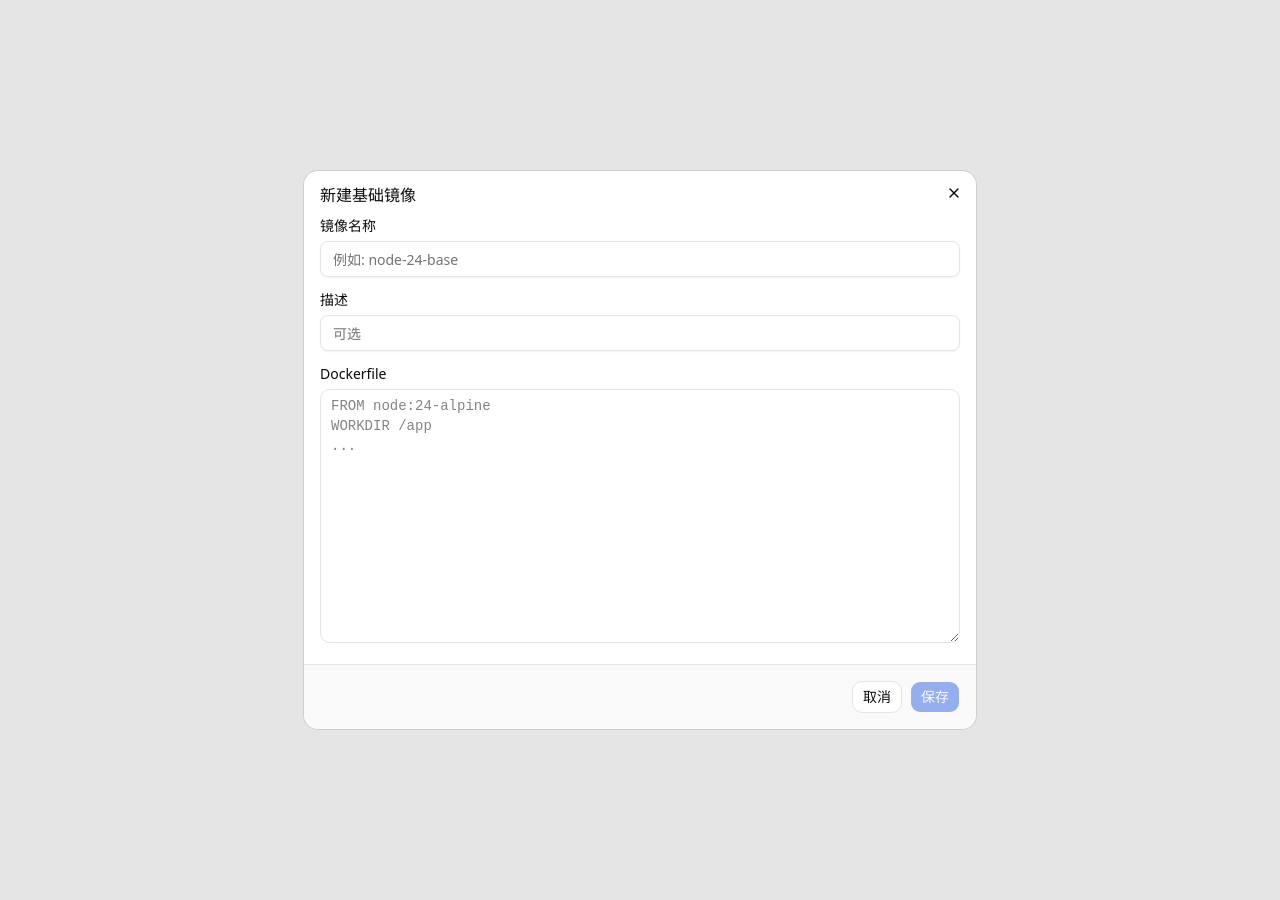
Test case: BaseImageFormDialog › T-W4: surfaces a save error
The image size is (1280, 900).
Type "node-base" into the field labelled "镜像名称".
click(640, 259); type("node-base")  # box [320,241,960,277]
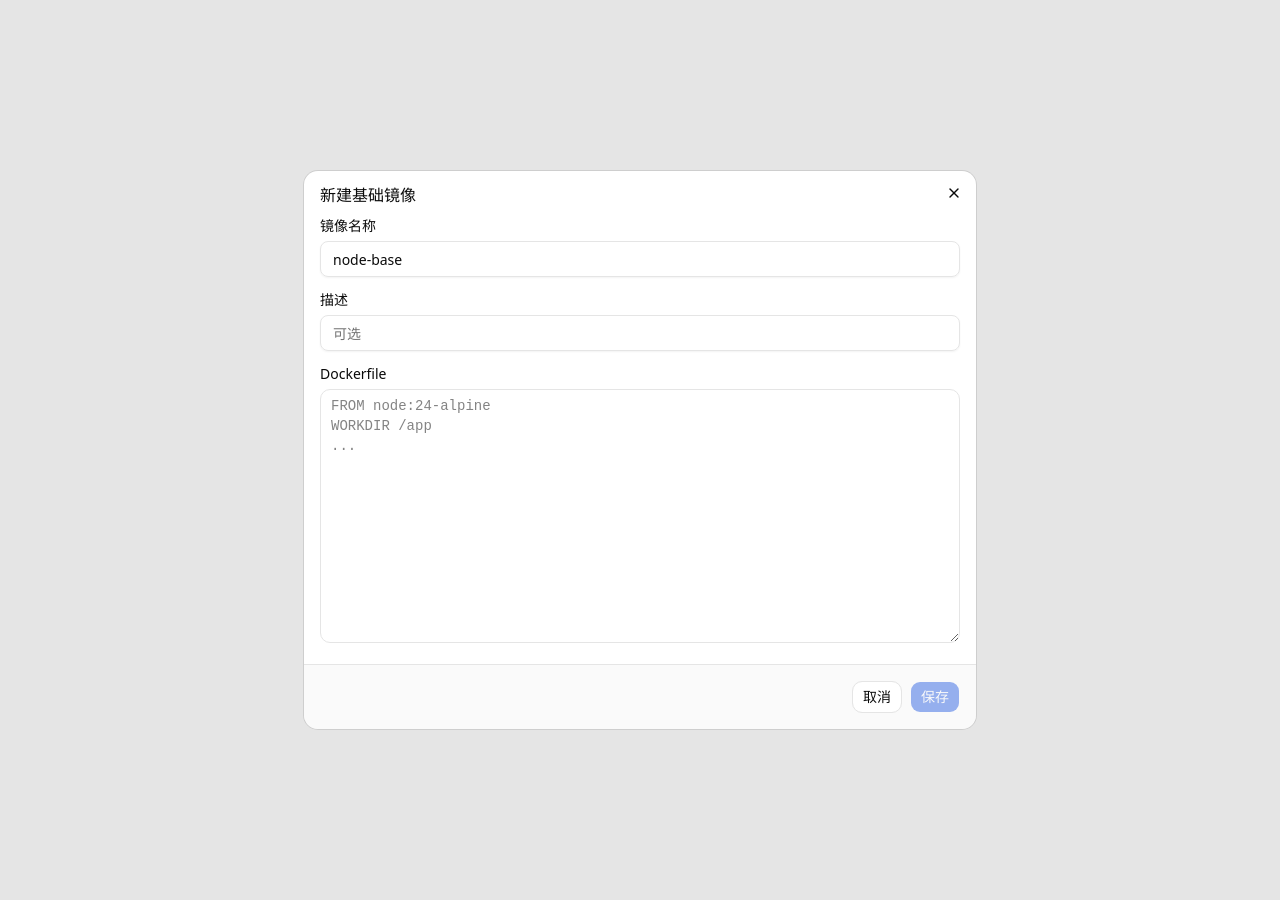
Type "FROM node" into the text box labelled "Dockerfile".
click(640, 516); type("FROM node")  # box [320,389,960,643]
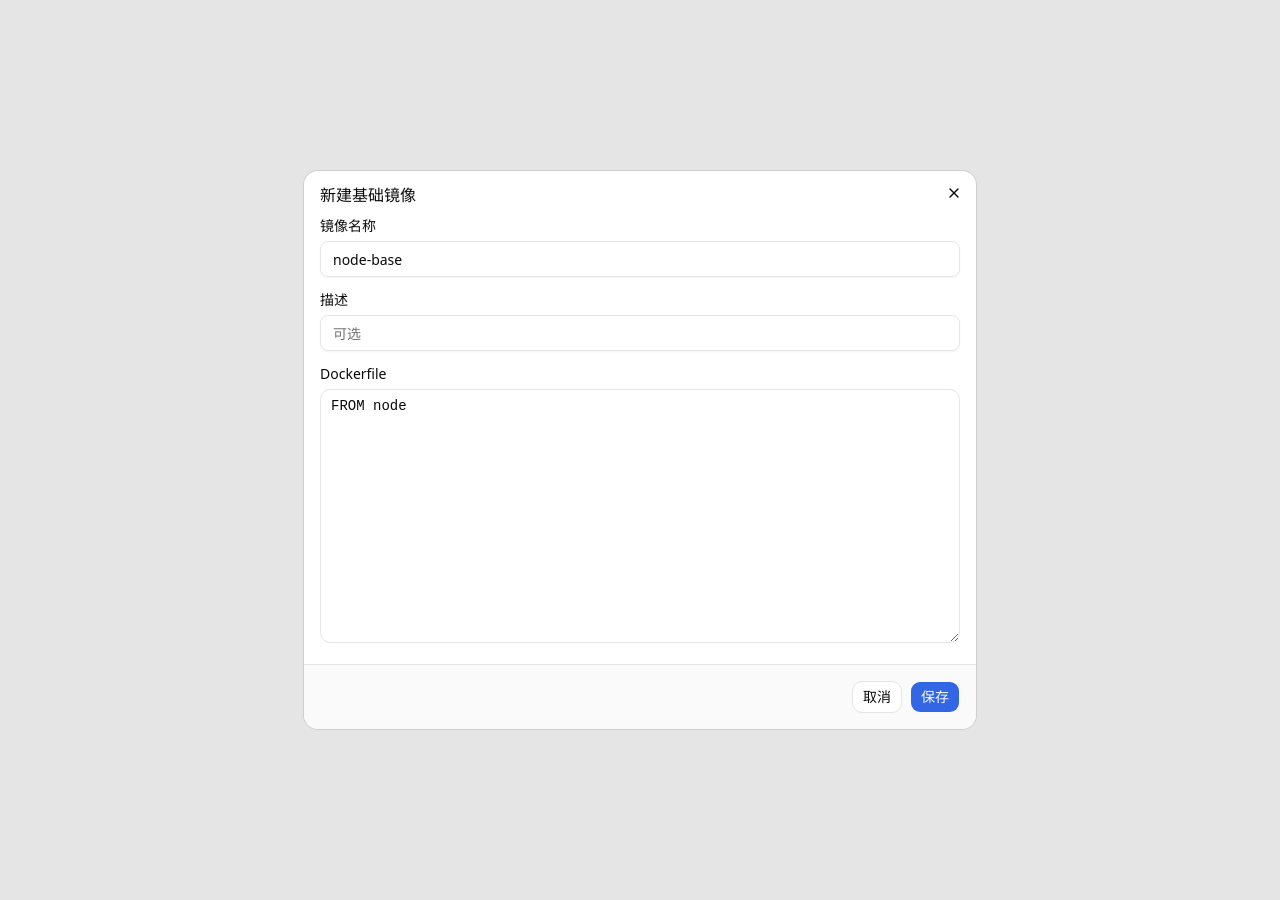
Click the button "保存".
click(935, 697)  # box [910,681,960,713]
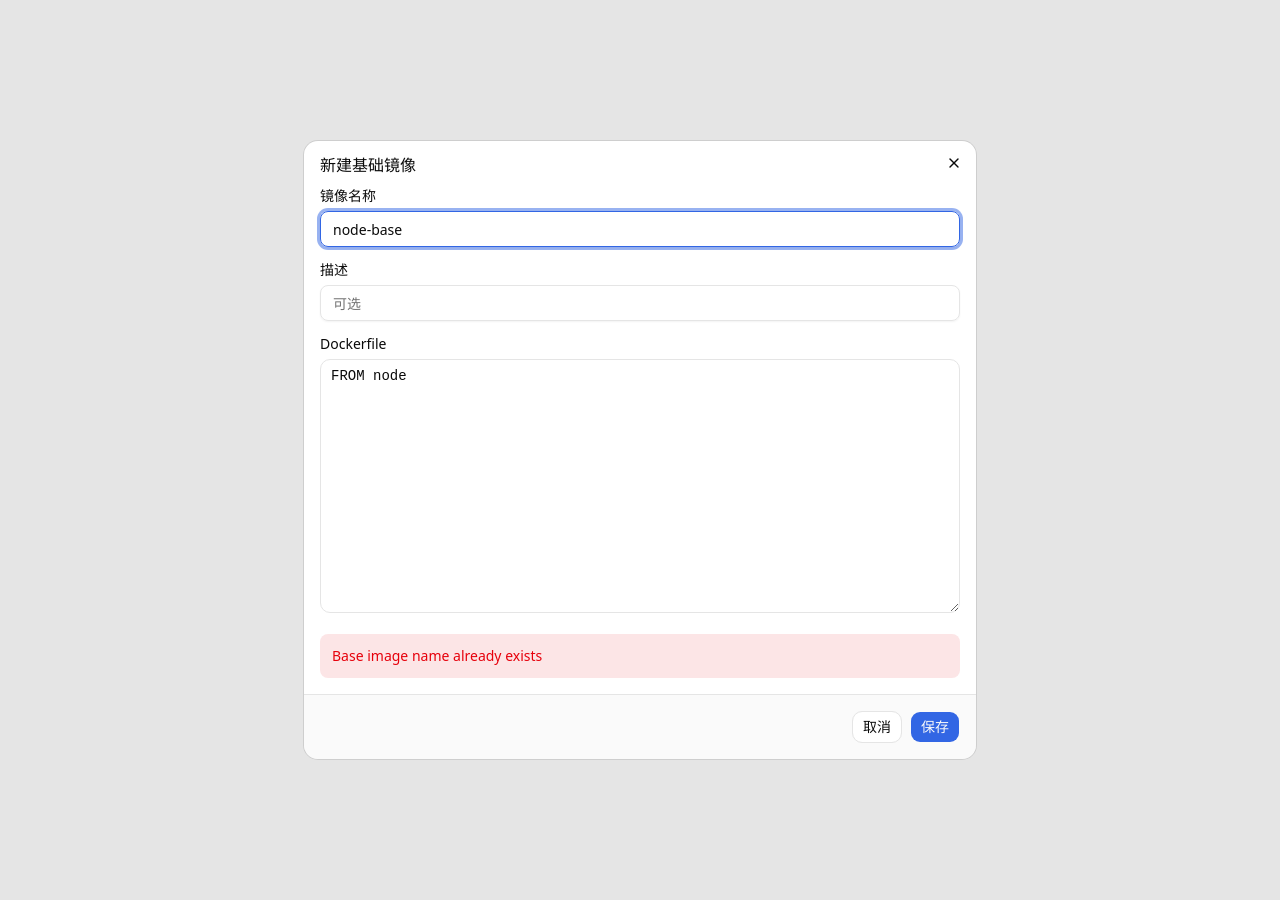
Expected: the message reads "Base image name already exists", [332,646,542,665]
